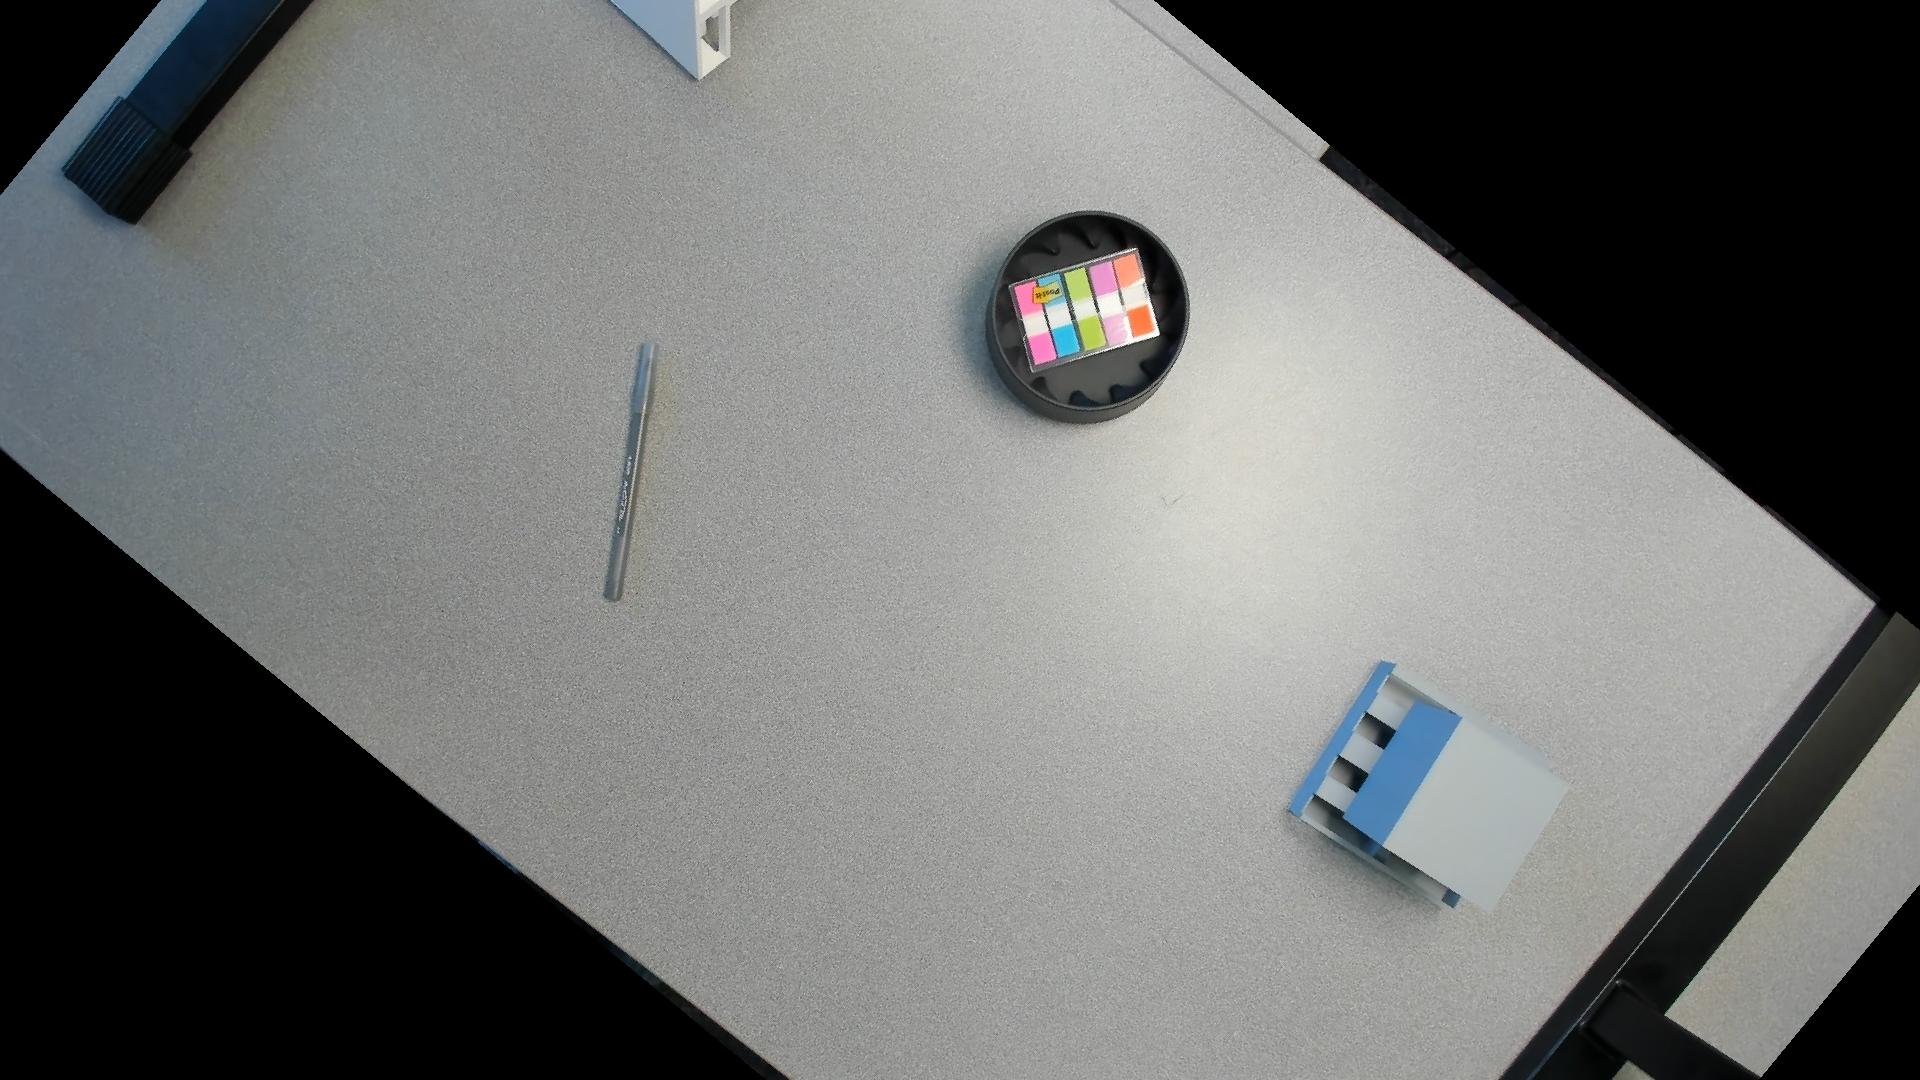grey pallet: (1280, 647, 1576, 936)
white pallet: (608, 1, 738, 100)
